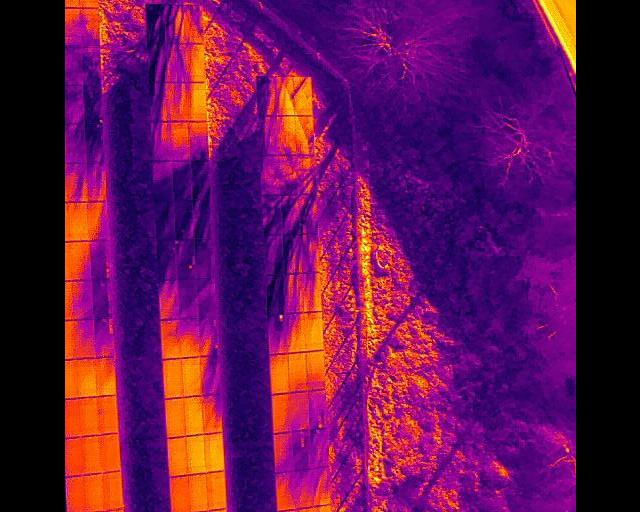Cell: (267, 314, 285, 355)
No-Anomaly: (166, 397, 186, 439), (182, 356, 202, 398), (95, 358, 116, 398), (206, 470, 226, 511), (79, 436, 100, 474), (81, 474, 102, 512), (271, 394, 291, 433), (76, 397, 96, 436), (168, 436, 187, 477), (187, 434, 206, 475), (74, 359, 94, 397), (97, 396, 117, 434), (66, 202, 85, 241), (269, 355, 288, 394), (100, 434, 119, 473), (101, 473, 121, 510), (304, 311, 322, 352), (288, 353, 307, 391), (306, 351, 324, 391), (171, 475, 190, 512), (164, 359, 182, 398), (186, 395, 203, 436), (189, 473, 206, 512), (189, 83, 206, 122), (205, 434, 222, 473), (64, 475, 80, 512), (189, 44, 204, 83), (64, 438, 79, 476), (78, 0, 97, 9), (64, 0, 78, 9)
Shadowing: (92, 280, 117, 319), (90, 242, 114, 281), (69, 281, 92, 321), (144, 4, 166, 44), (201, 355, 222, 396), (148, 81, 169, 122), (64, 164, 86, 203), (168, 43, 189, 83), (86, 202, 107, 242), (277, 155, 298, 195), (71, 320, 93, 358), (93, 320, 115, 358), (79, 8, 99, 49), (64, 125, 85, 164), (68, 242, 89, 281), (83, 124, 104, 163), (86, 163, 107, 202), (151, 162, 172, 201), (158, 279, 178, 319), (179, 318, 199, 358), (293, 76, 313, 116), (259, 155, 279, 195), (260, 195, 280, 235), (146, 45, 167, 83), (65, 86, 85, 125), (169, 82, 189, 121), (169, 121, 189, 160), (172, 201, 192, 240), (175, 239, 195, 278), (203, 395, 223, 434), (282, 234, 302, 273), (274, 76, 294, 115), (280, 195, 300, 234), (292, 430, 311, 471), (296, 154, 315, 195), (161, 319, 180, 359), (173, 161, 192, 201), (178, 279, 197, 319), (258, 116, 277, 156), (265, 274, 284, 314), (184, 5, 203, 44), (255, 76, 274, 115), (276, 116, 295, 155), (200, 318, 220, 355), (81, 48, 100, 86), (273, 434, 292, 472), (157, 239, 175, 279), (166, 4, 184, 44), (275, 471, 293, 511), (82, 87, 101, 124), (190, 121, 208, 160), (153, 202, 171, 241), (263, 235, 281, 274), (284, 273, 302, 312), (291, 391, 309, 430), (293, 470, 311, 509), (308, 390, 326, 429), (198, 278, 215, 319), (286, 313, 303, 354), (151, 121, 168, 162), (192, 162, 209, 202), (190, 121, 207, 160), (195, 239, 212, 278), (296, 116, 313, 155), (310, 429, 327, 468), (311, 468, 328, 506), (64, 48, 81, 86), (193, 202, 210, 239), (301, 234, 317, 273), (303, 273, 319, 312), (64, 8, 78, 49)
